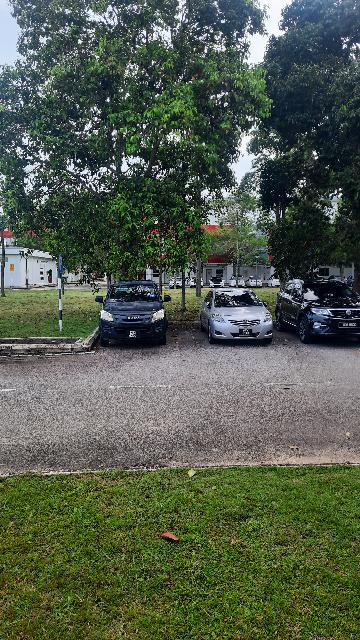License_Plate: (340, 323, 360, 330), (126, 331, 141, 339), (241, 329, 254, 337)
car: (276, 280, 360, 345), (96, 280, 173, 347), (201, 289, 274, 346)
